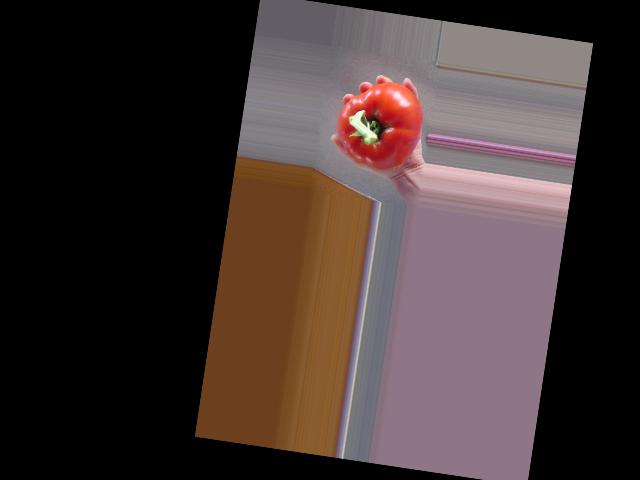tomato: (331, 75, 428, 173)
